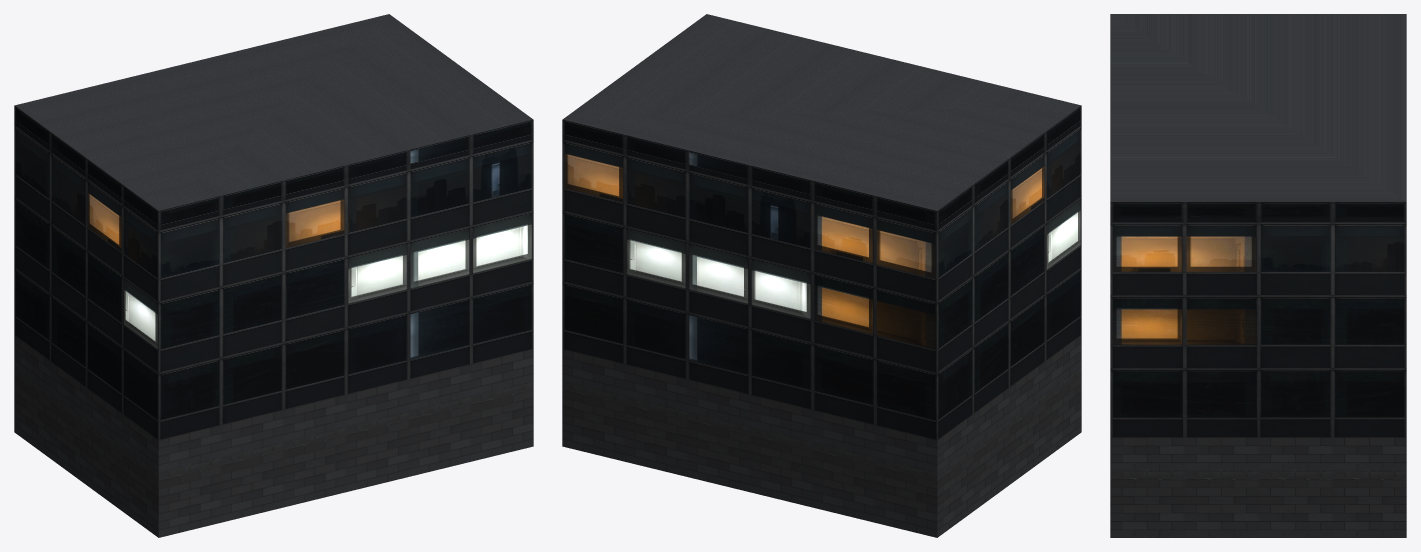
The model's file is academic_block.glb.
3 views of the same model, side by side, from view 1: azimuth 30°, elevation 25°; view 2: azimuth 150°, elevation 25°; view 3: azimuth 270°, elevation 25° (orthographic). The views are drawn at different scales.
Visible parts, largest first — view 1: body, crown, ground; view 2: body, crown, ground; view 3: body, crown, ground.
Part boxes in pixels (x1,y1,x2,y2): body: [14, 125, 533, 439]; crown: [14, 14, 533, 230]; ground: [14, 334, 533, 537]; body: [562, 125, 1081, 439]; crown: [562, 14, 1081, 230]; ground: [562, 334, 1081, 537]; body: [1110, 222, 1406, 437]; crown: [1110, 14, 1406, 222]; ground: [1110, 437, 1406, 537].
Bounding box in the file's own units: 18 × 15 × 12.
3 materials, 3 textured.
